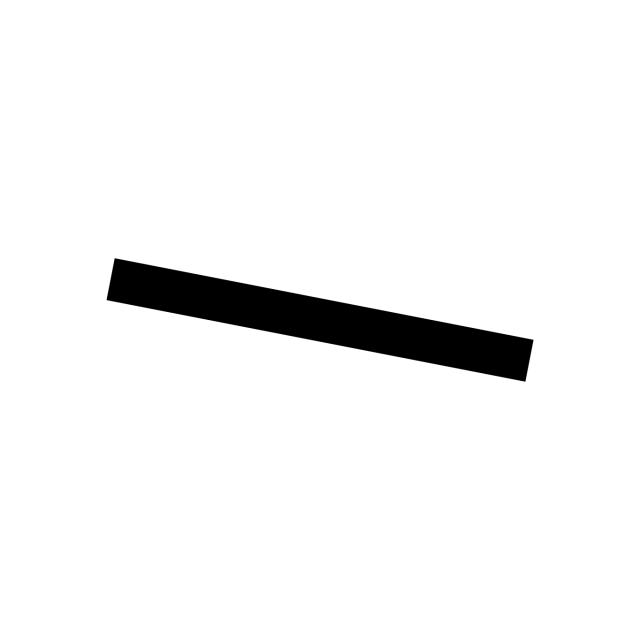line: (106, 258, 533, 382)
